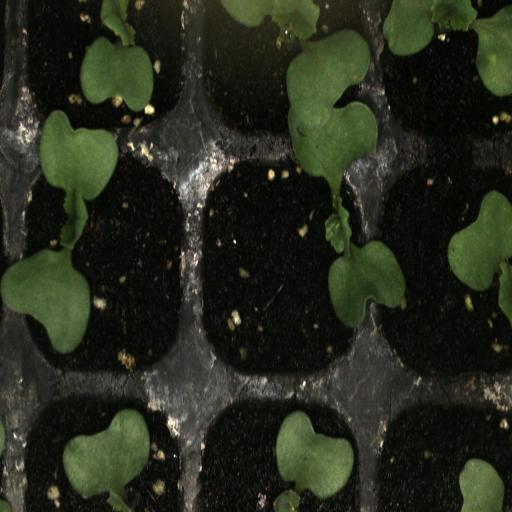Folha: (382, 0, 512, 97), (448, 190, 512, 320), (80, 0, 154, 112)
Germinacao: (195, 142, 372, 386), (20, 142, 194, 382)
